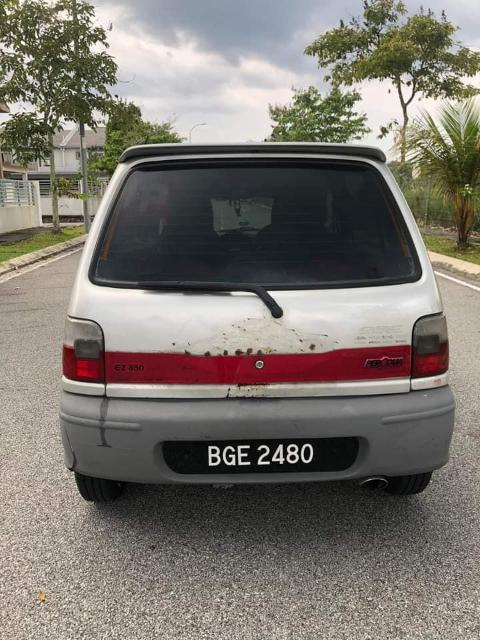License_Plate: (201, 440, 326, 474)
car: (69, 136, 459, 496)
